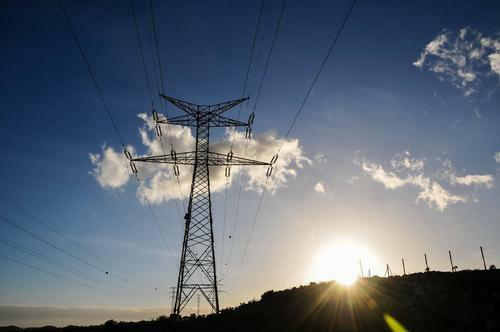power_tower: (116, 84, 274, 327)
